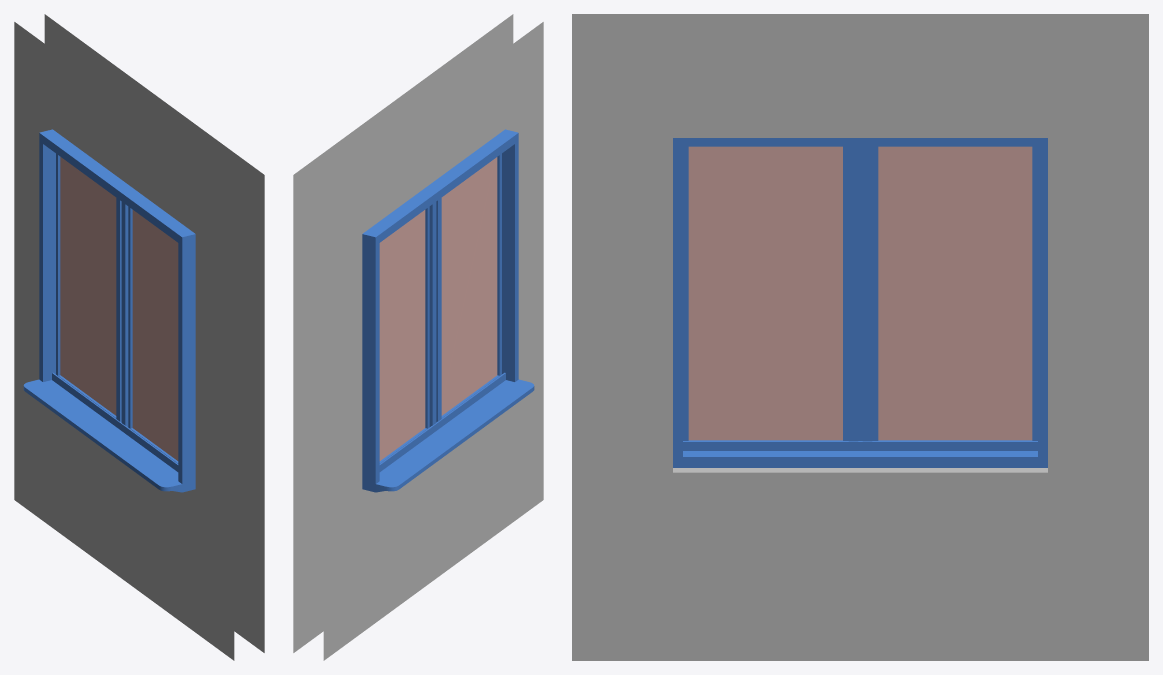
The model's file is AE_House_03_Windows_03.fbx.
3 renders of one model, left to right at view 1: azimuth 30°, elevation 25°; view 2: azimuth 150°, elevation 25°; view 3: azimuth 270°, elevation 25°, orthographic. The views are drawn at different scales.
Parts seen in each view (by area): view 1: AE_House_03_Windows_03_LOD0; view 2: AE_House_03_Windows_03_LOD0; view 3: AE_House_03_Windows_03_LOD0.
Boxes of the visible parts, left/top/right/bottom form: AE_House_03_Windows_03_LOD0: left=14, top=14, right=264, bottom=660; AE_House_03_Windows_03_LOD0: left=293, top=14, right=543, bottom=660; AE_House_03_Windows_03_LOD0: left=572, top=14, right=1148, bottom=660.
Size of what is drawn, in the model's own units: 41.21 by 300 by 250.
